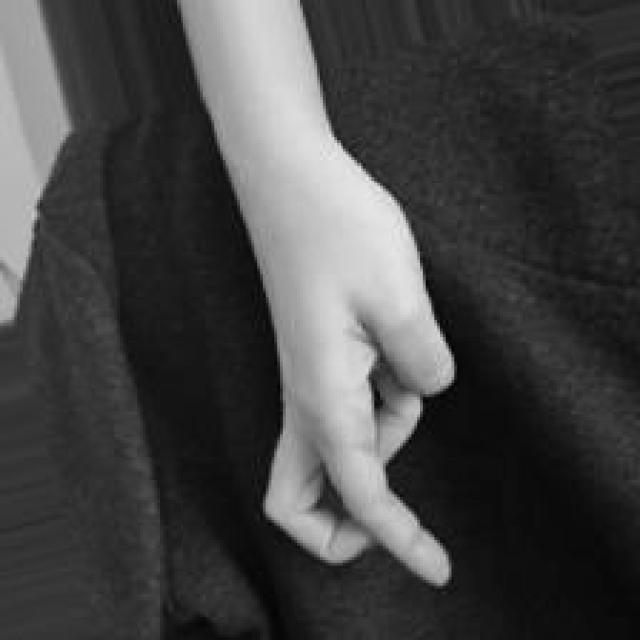P: (248, 225, 466, 598)
